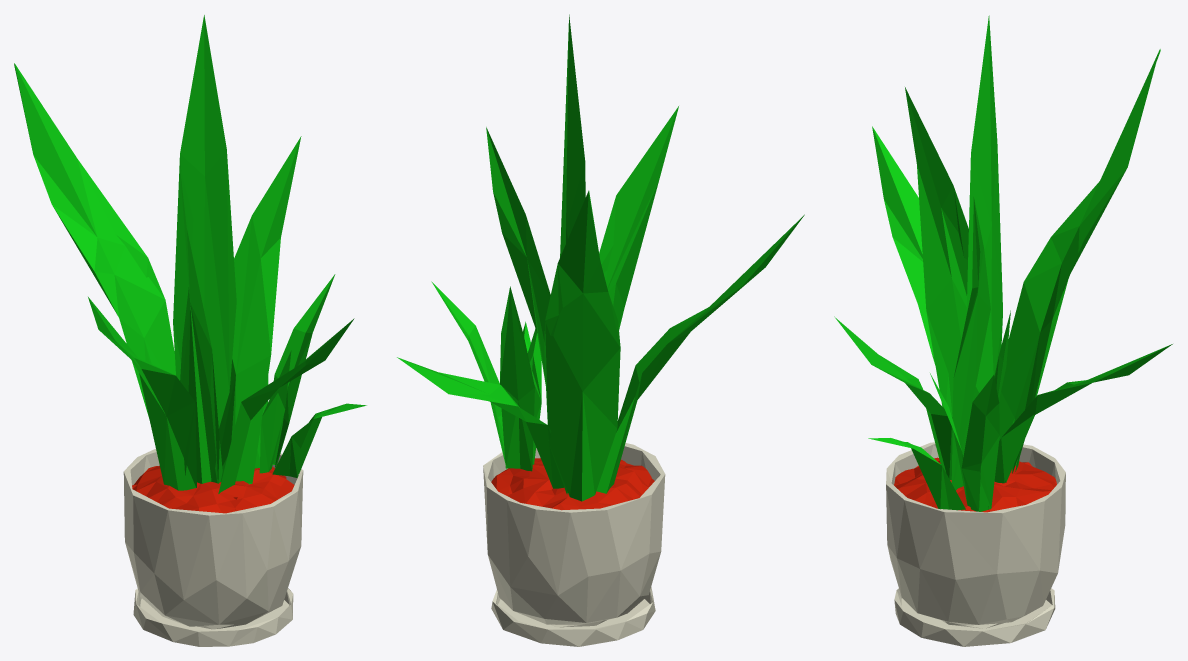
Rendered from flower_pot.obj.
3 renders of one model, left to right at view 1: azimuth 30°, elevation 25°; view 2: azimuth 150°, elevation 25°; view 3: azimuth 270°, elevation 25°, orthographic.
Visible parts, largest first — view 1: Snake_PLANT_POT_001.002_Plane.022; view 2: Snake_PLANT_POT_001.002_Plane.022; view 3: Snake_PLANT_POT_001.002_Plane.022.
Part boxes in pixels (box(x1,y1,x2,y2)): Snake_PLANT_POT_001.002_Plane.022: box(14, 15, 366, 646); Snake_PLANT_POT_001.002_Plane.022: box(397, 14, 804, 646); Snake_PLANT_POT_001.002_Plane.022: box(834, 15, 1172, 646).
Size of the model in its own units: 0.2226 by 0.4103 by 0.2113.
